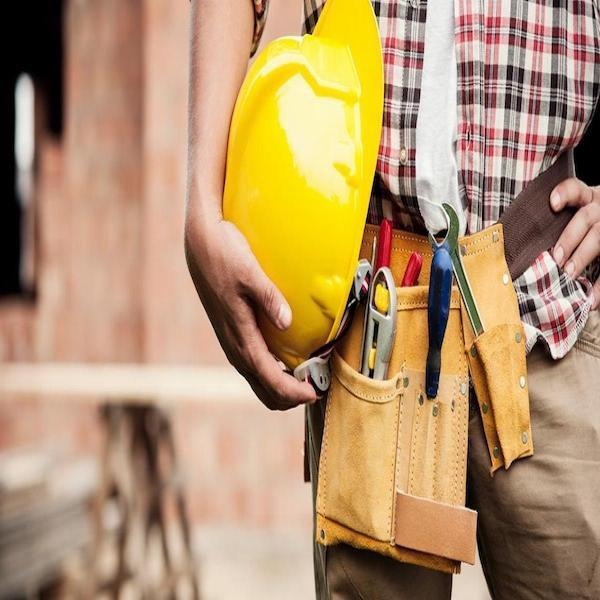helmet: (234, 12, 385, 351)
